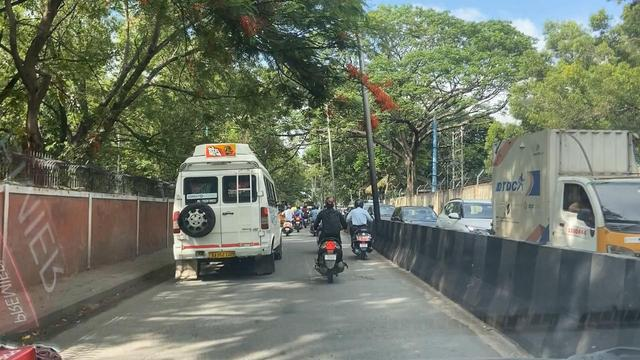HMV: (173, 142, 269, 269)
LMV: (317, 193, 340, 273), (352, 192, 369, 252)
